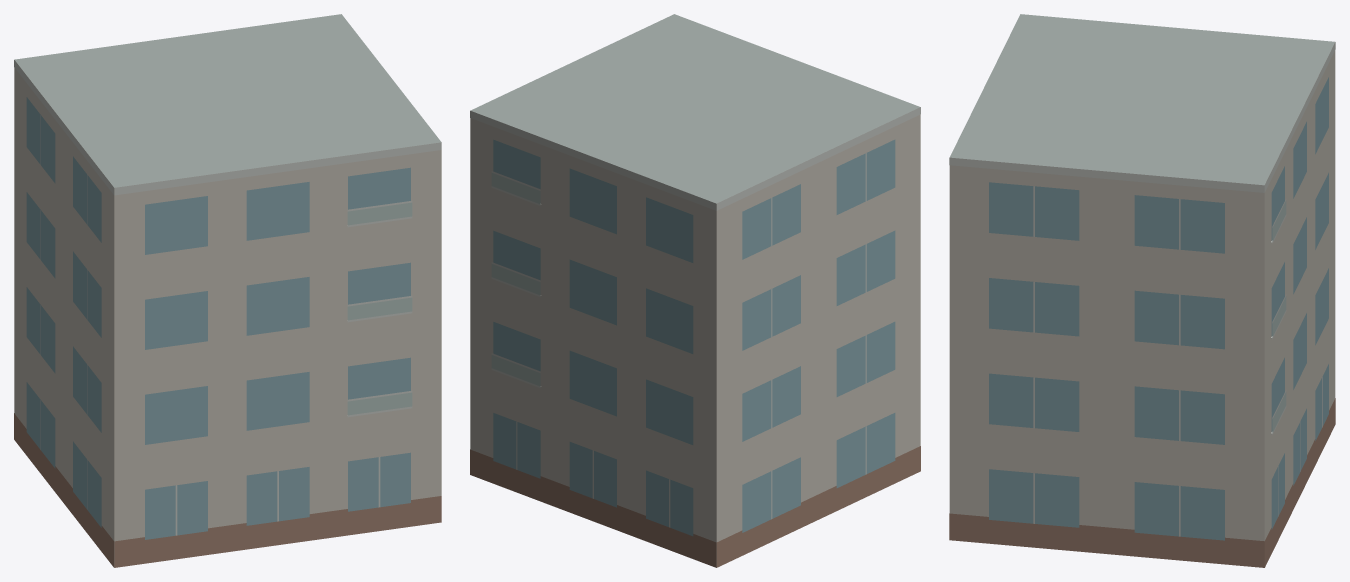
Rendered from residential-46d24b52-39ba-4369-85f4-299d60b5ca21.glb.
The picture shows the model from 3 angles, left to right: view 1: azimuth 30°, elevation 25°; view 2: azimuth 150°, elevation 25°; view 3: azimuth 270°, elevation 25°; orthographic projection. The views are drawn at different scales.
Parts seen in each view (by area): view 1: residential-46d24b52-39ba-4369-85f4-299d60b5ca21.tmp; view 2: residential-46d24b52-39ba-4369-85f4-299d60b5ca21.tmp; view 3: residential-46d24b52-39ba-4369-85f4-299d60b5ca21.tmp.
Boxes of the visible parts, <box> form: residential-46d24b52-39ba-4369-85f4-299d60b5ca21.tmp: <box>14,14,441,567</box>; residential-46d24b52-39ba-4369-85f4-299d60b5ca21.tmp: <box>470,14,920,567</box>; residential-46d24b52-39ba-4369-85f4-299d60b5ca21.tmp: <box>949,14,1335,567</box>.
Bounding box in the file's own units: 11.73 × 12.2 × 11.17.
